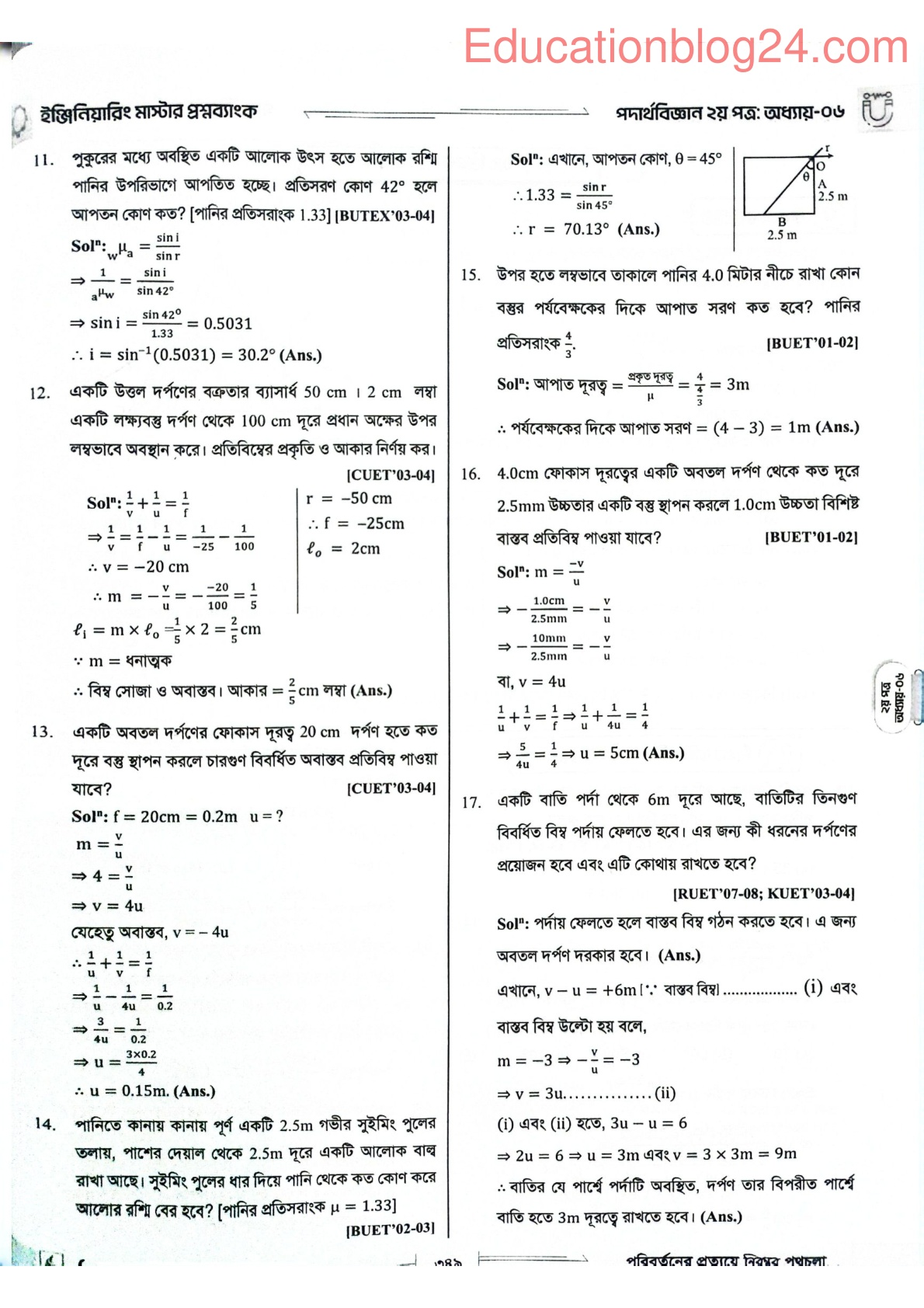question: (24, 1107, 444, 1247), (460, 784, 865, 906), (28, 377, 441, 487), (457, 257, 868, 360), (459, 462, 868, 554), (24, 714, 444, 802), (28, 141, 441, 229)
